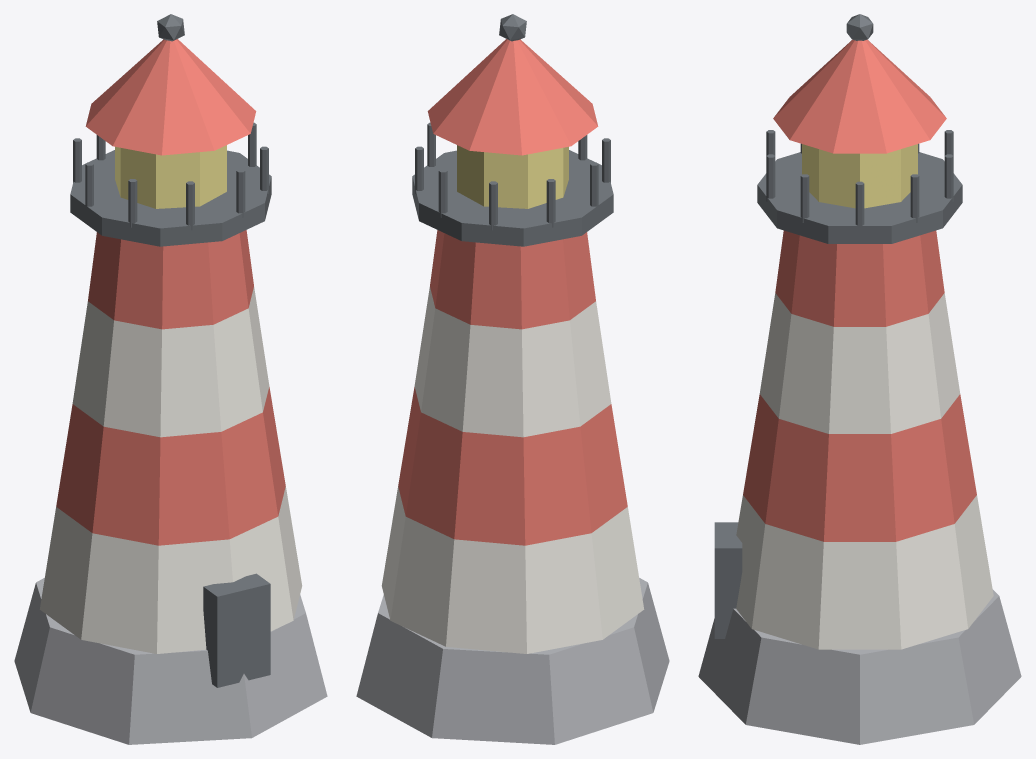
Rendered from Lighthouse.fbx.
3 renders of one model, left to right at view 1: azimuth 30°, elevation 25°; view 2: azimuth 150°, elevation 25°; view 3: azimuth 270°, elevation 25°, orthographic.
Visible parts, largest first — view 1: Lighthouse; view 2: Lighthouse; view 3: Lighthouse.
Boxes of the visible parts, <box> form: Lighthouse: <box>14,14,327,744</box>; Lighthouse: <box>356,14,669,744</box>; Lighthouse: <box>698,14,1021,744</box>.
Size of the model in its own units: 2.9 by 6.56 by 2.9.
